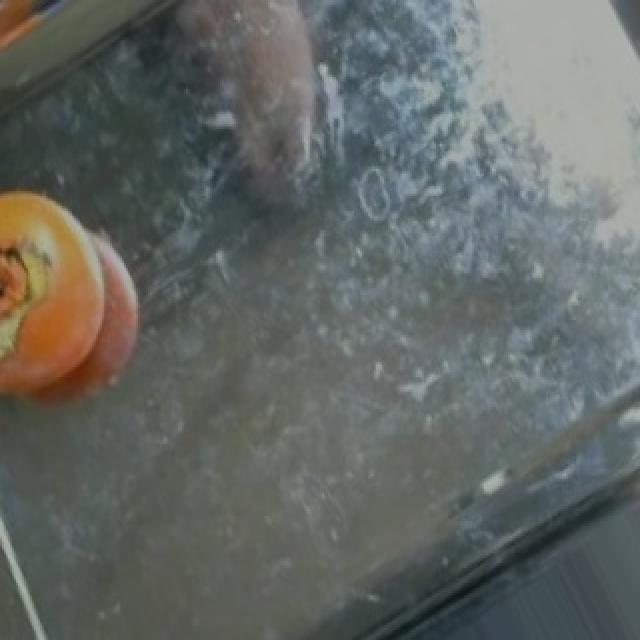Fruit: (0, 166, 128, 424), (0, 0, 60, 87)
